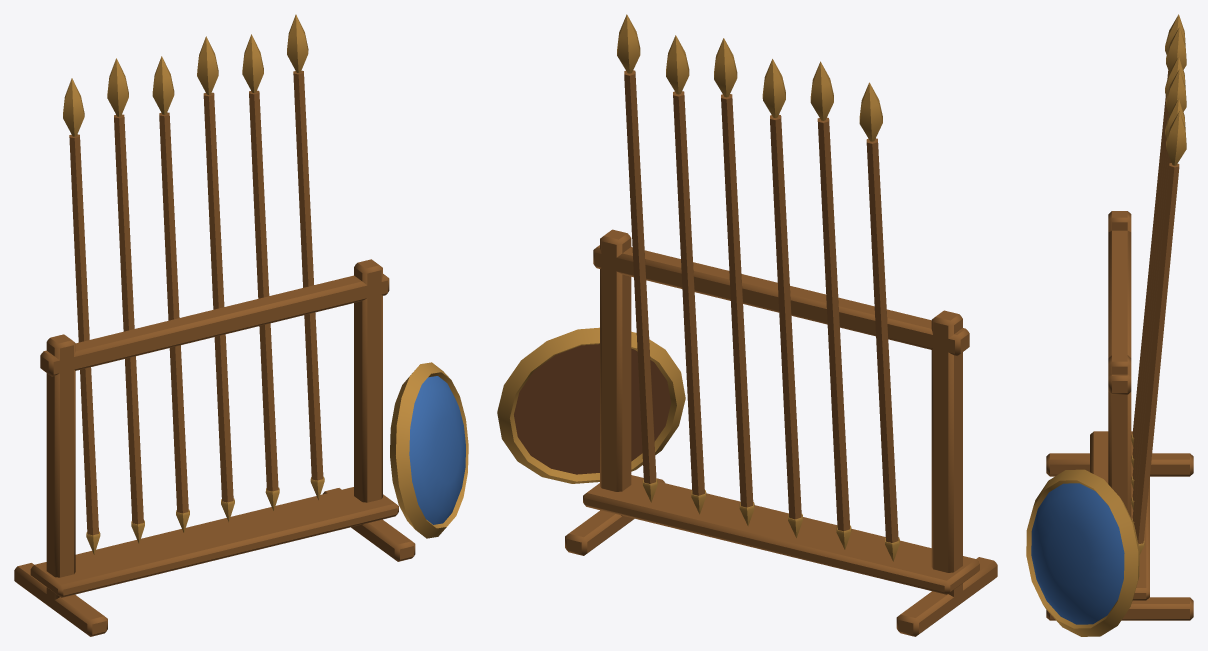
File: spearRack.glb
The picture shows the model from 3 angles, left to right: view 1: azimuth 30°, elevation 25°; view 2: azimuth 150°, elevation 25°; view 3: azimuth 270°, elevation 25°; orthographic projection. The views are drawn at different scales.
Parts seen in each view (by area): view 1: spearRack; view 2: spearRack; view 3: spearRack.
Boxes of the visible parts, x1,y1,x2,y2 form: spearRack: (14,14,468,636); spearRack: (497,14,997,636); spearRack: (1026,14,1193,636).
Bounding box in the file's own units: 1.02 × 1.17 × 0.3631.
